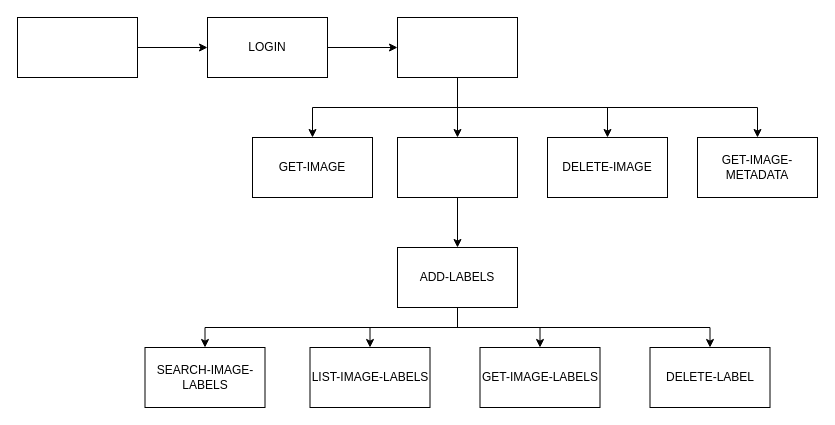
The diagram is 835 pixels wide and 425 high, and some of its shapes have lost their labels. Here are the shapes that lost their labels. From the top down, the centre of each, then its label:
point (77, 47): REGISTER
point (457, 47): UPLOAD-IMAGES
point (457, 167): LIST-IMAGES
